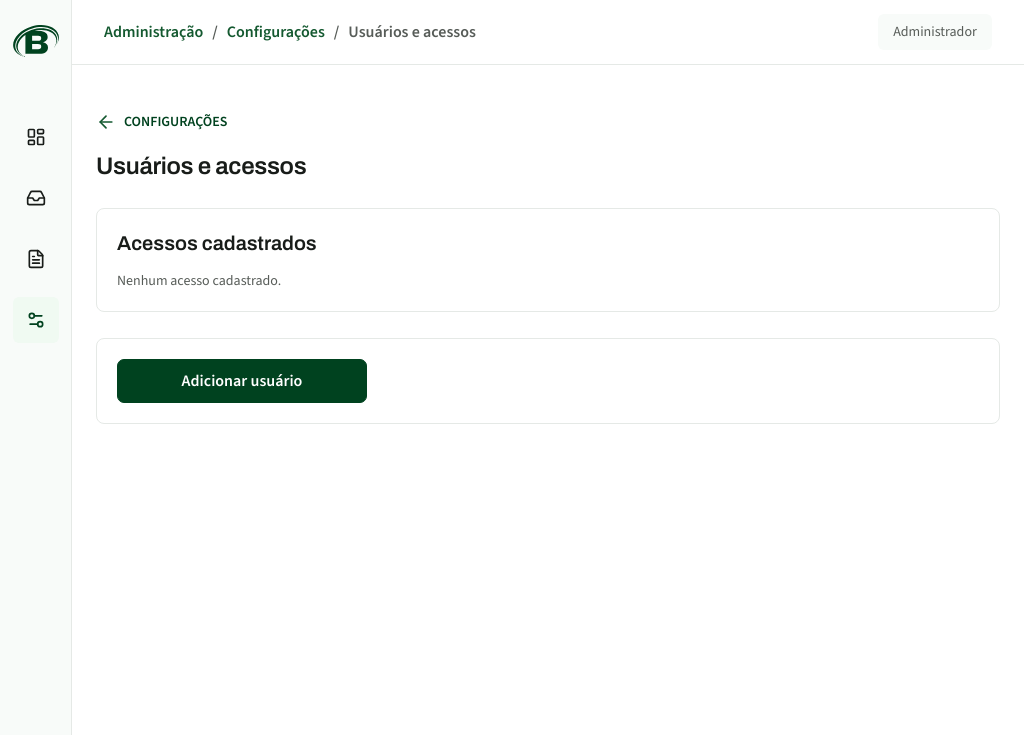
Test: ADM-12 — auditoria de resposta e acessibilidade › leva o foco ao primeiro campo inválido
The image size is (1024, 735).
Check: the text "Nenhum acesso cadastrado." is shown, box [117,271,281,291]
Click the button "Adicionar usuário" at (242, 381), box [117,359,367,403]
(page scrolled)
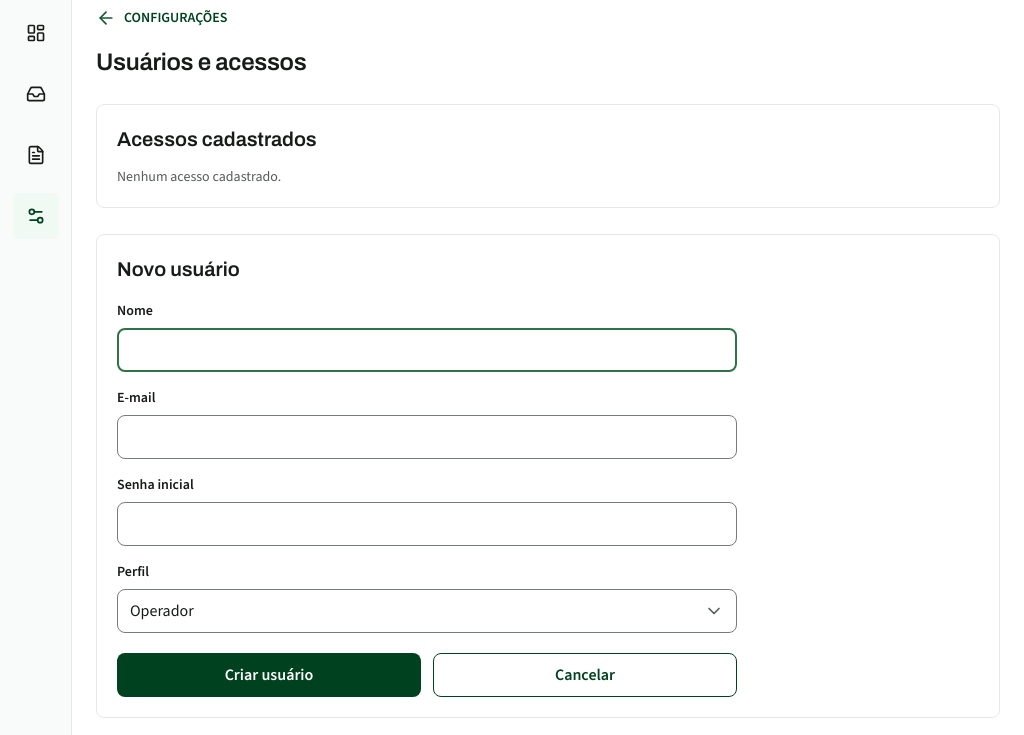
Click the button "Criar usuário" at (269, 675), box [117,653,421,697]
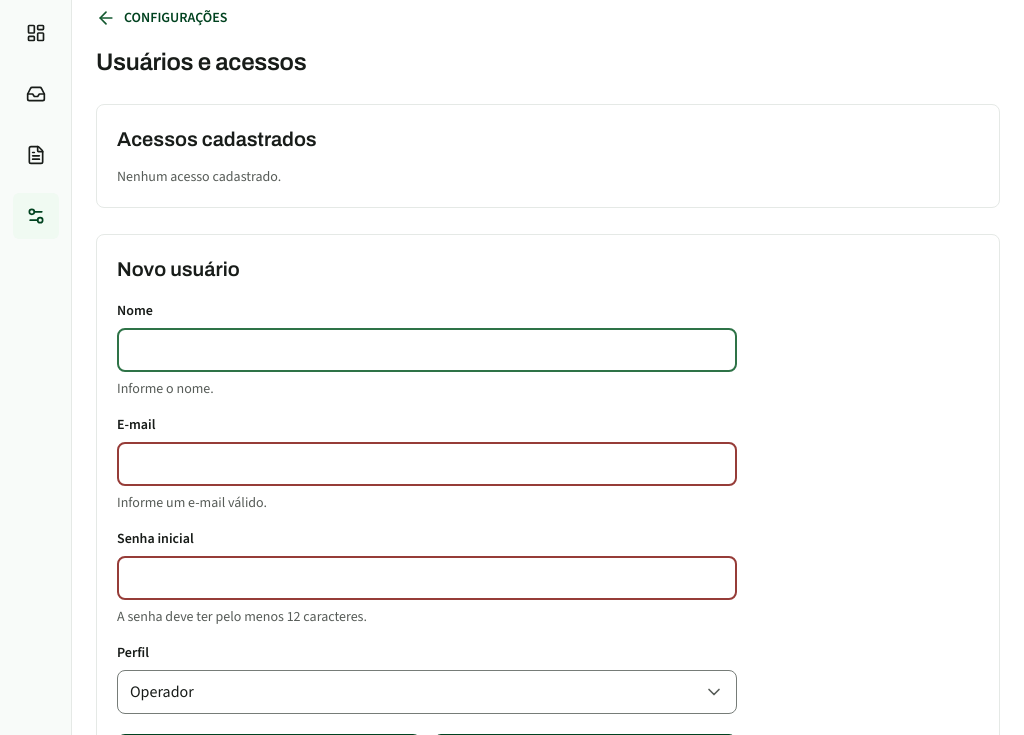
Check: the text "Informe o nome." is shown, box [117,379,214,398]
